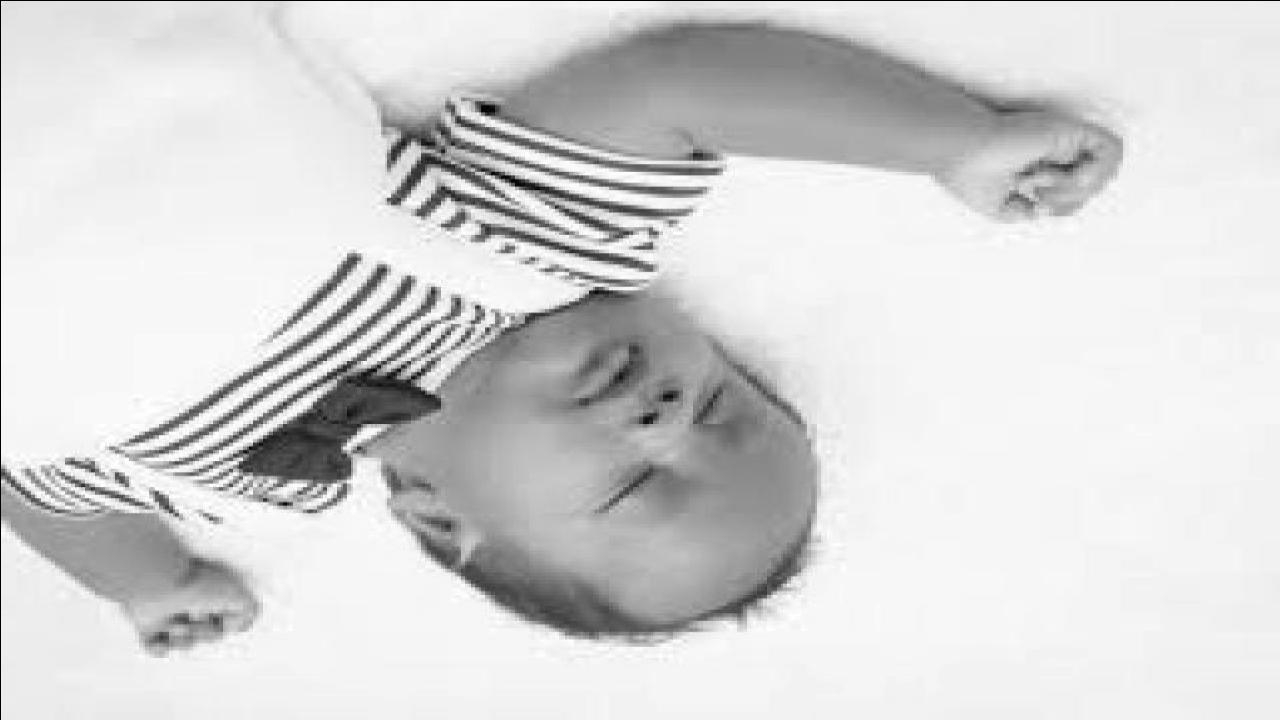hand: (931, 104, 1126, 222), (111, 569, 258, 659)
